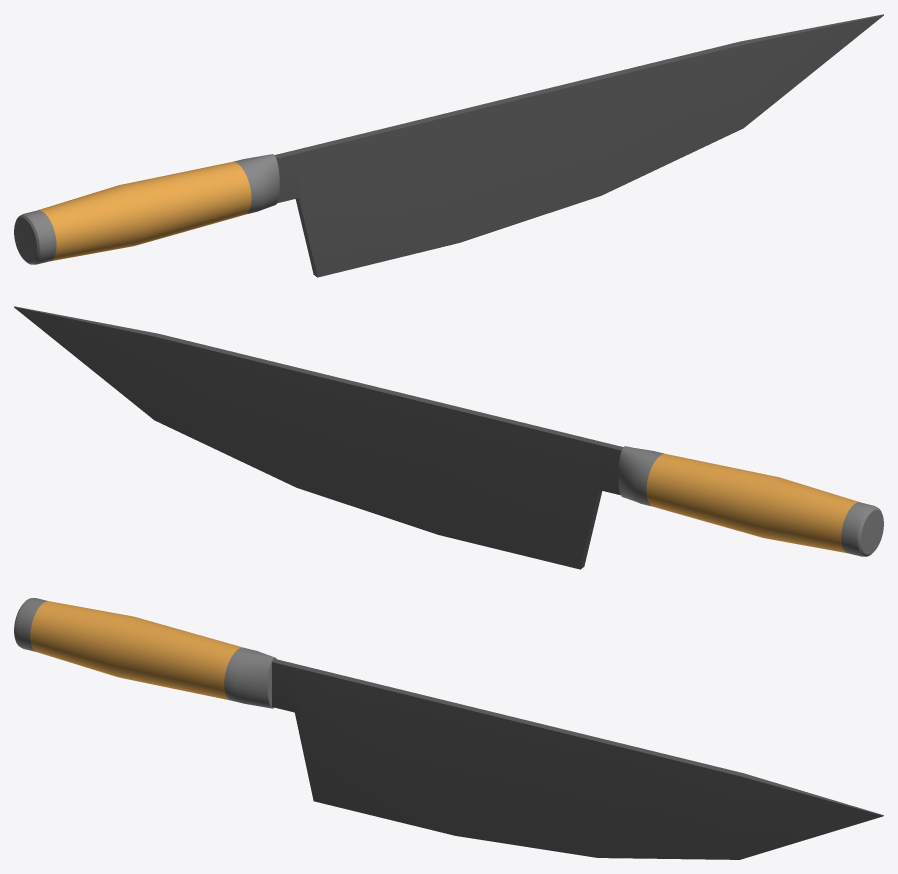
File: Knife.fbx
The picture shows the model from 3 angles, top to bottom: view 1: azimuth 30°, elevation 25°; view 2: azimuth 150°, elevation 25°; view 3: azimuth 330°, elevation 25°; orthographic projection.
Parts seen in each view (by area): view 1: Hilt; view 2: Hilt; view 3: Hilt.
Part boxes in pixels (x1,y1,x2,y2): Hilt: (14,14,883,277); Hilt: (14,306,883,569); Hilt: (14,598,883,859).
Size of the model in its own units: 3764 by 567 by 239.
